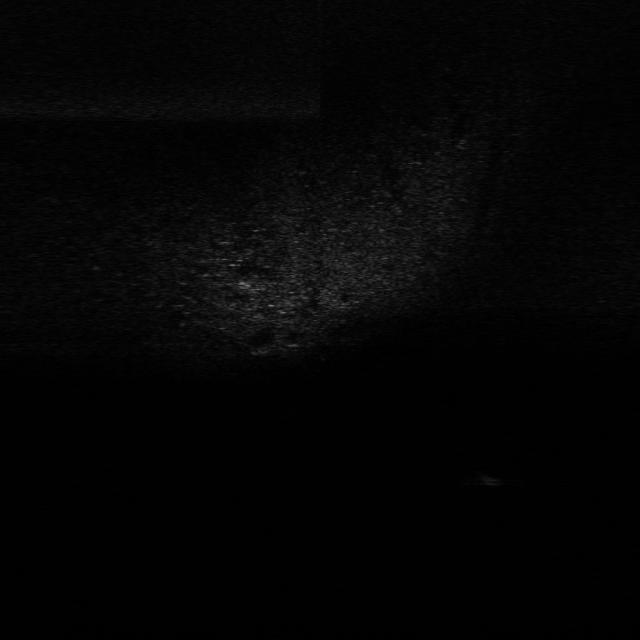cylinder: (468, 470, 503, 489)
